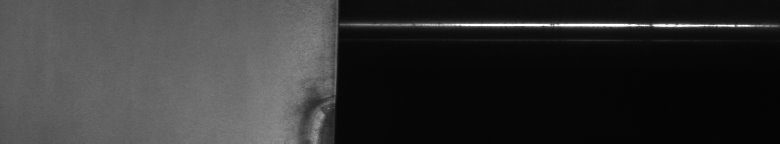hb: (292, 55, 324, 136)
